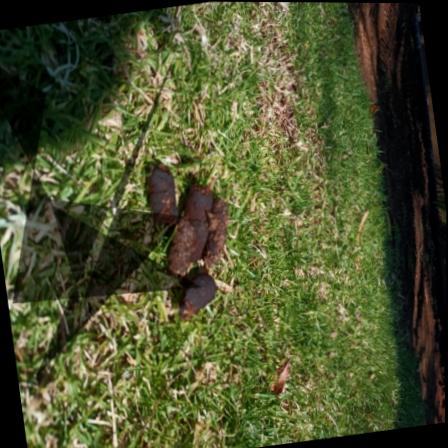dog-poop: (134, 153, 249, 314)
